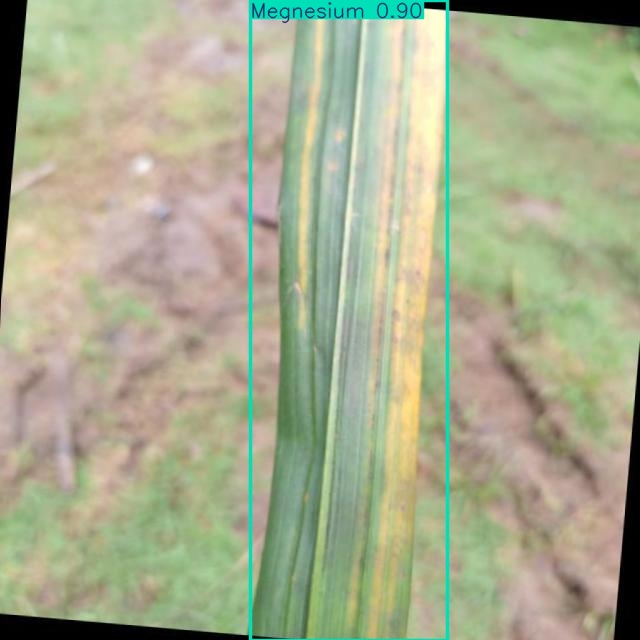Megnesium: (251, 1, 447, 640)
